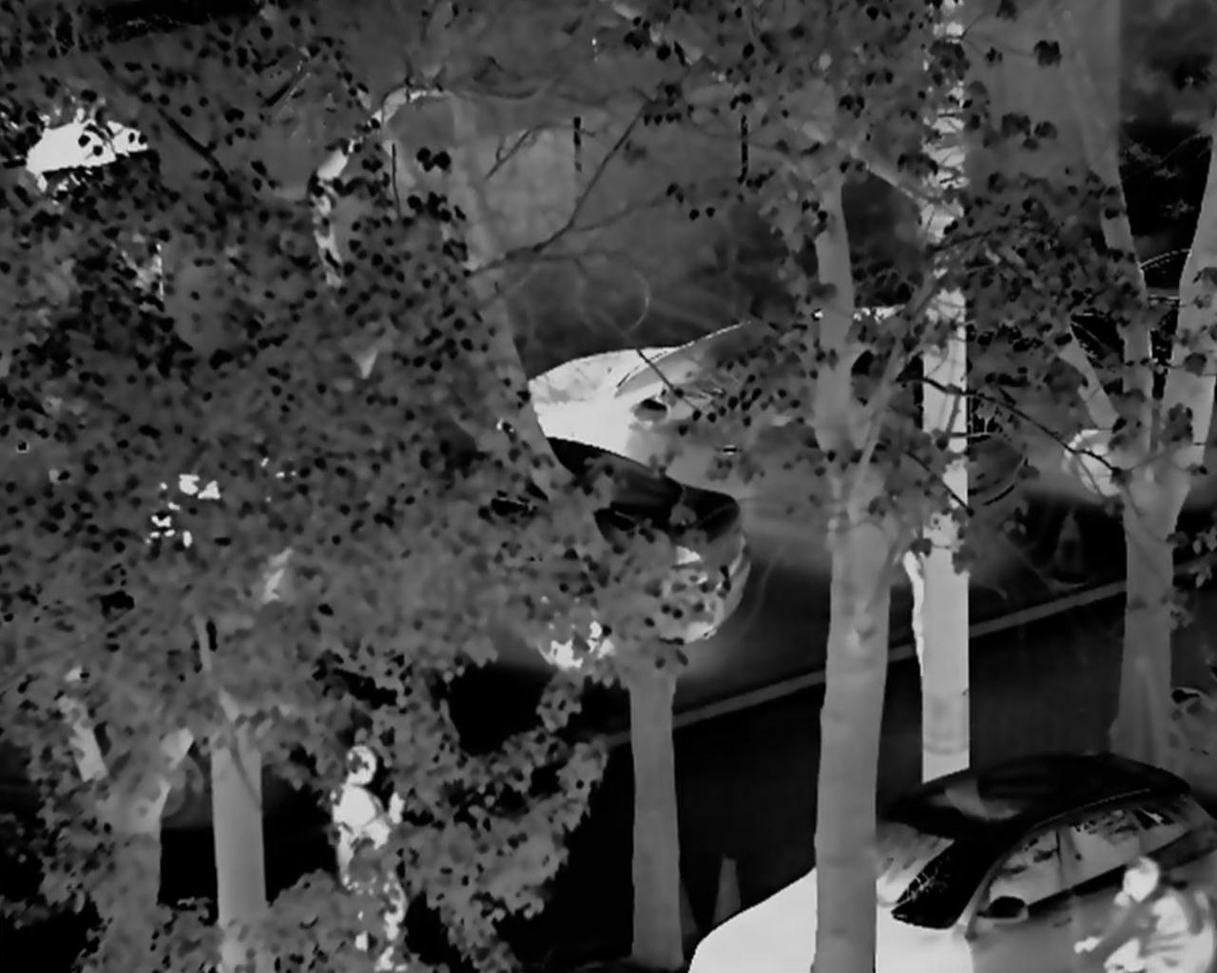person: (325, 742, 429, 960), (1072, 854, 1217, 971)
